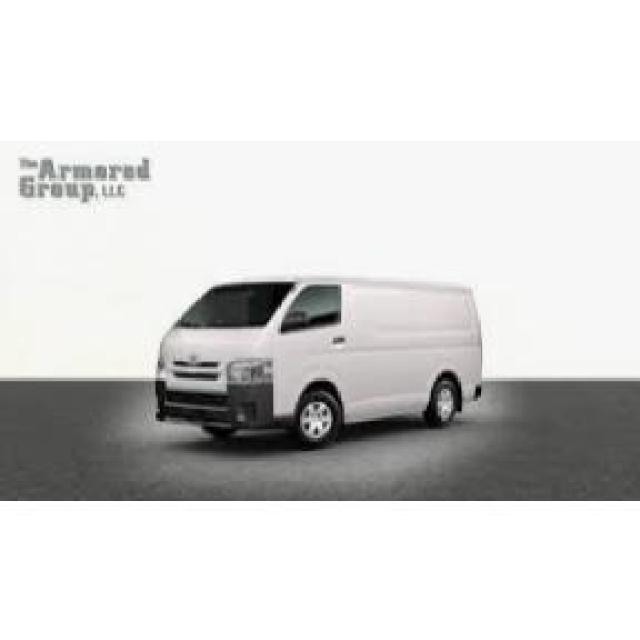Van: (152, 271, 488, 452)
